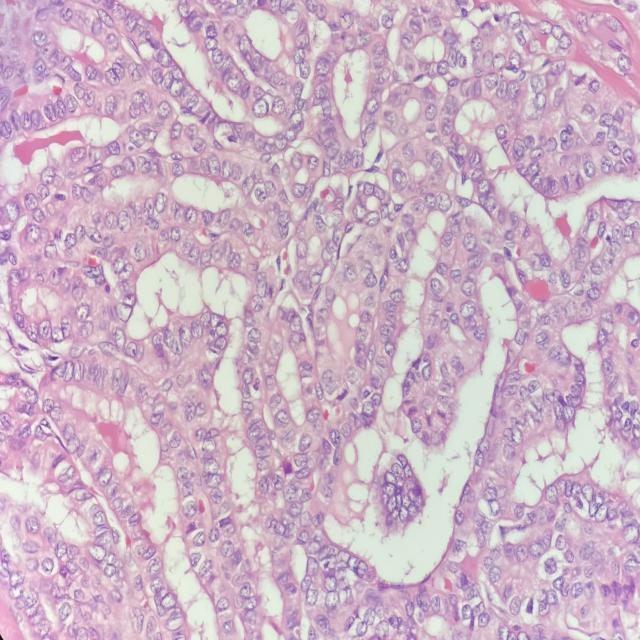TC: (387, 161, 416, 196), (213, 203, 236, 239), (204, 148, 225, 182), (387, 281, 409, 312), (339, 259, 361, 289), (291, 239, 312, 268), (244, 323, 268, 348), (362, 265, 381, 296), (255, 274, 274, 304), (243, 417, 268, 439), (427, 270, 445, 300), (186, 319, 206, 346), (458, 296, 479, 321), (271, 407, 292, 432), (361, 209, 384, 231), (182, 197, 198, 228), (286, 310, 305, 336), (194, 364, 212, 390), (289, 179, 310, 201), (296, 359, 317, 380), (408, 416, 426, 440), (410, 196, 428, 219), (354, 322, 370, 346), (436, 190, 452, 214), (361, 399, 381, 418), (380, 319, 396, 342), (253, 183, 269, 205), (423, 358, 434, 390), (361, 175, 374, 202), (450, 264, 465, 285)
